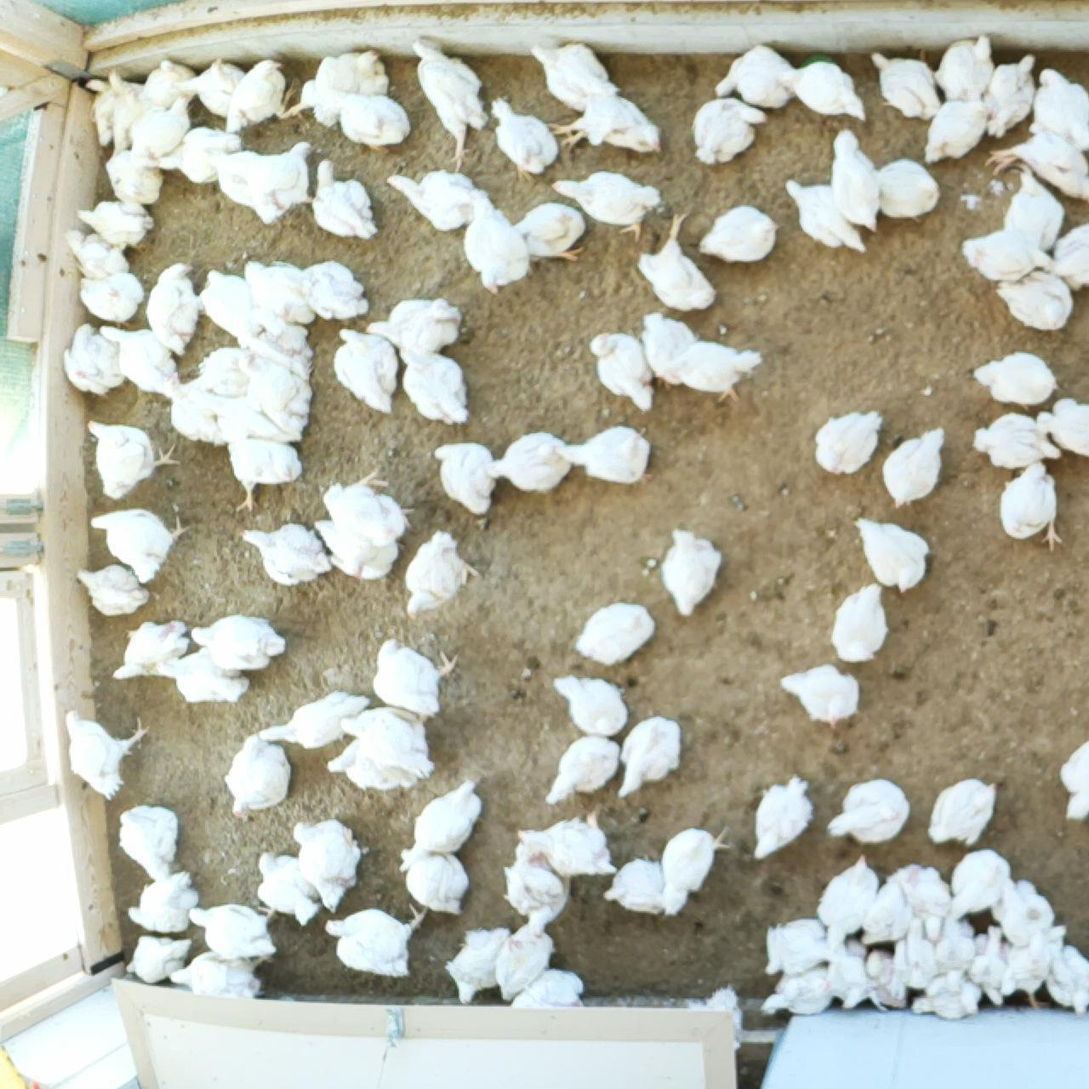chicken: (408, 31, 489, 166), (323, 904, 433, 981), (89, 503, 192, 585), (85, 416, 180, 503), (546, 167, 660, 239), (62, 708, 149, 801), (635, 214, 715, 314), (549, 91, 666, 159), (322, 465, 419, 546), (283, 46, 389, 119), (398, 781, 483, 872), (338, 705, 441, 780), (458, 189, 531, 294), (514, 806, 617, 880), (291, 820, 371, 913), (308, 84, 414, 153), (373, 637, 460, 721), (658, 824, 734, 918), (653, 340, 762, 405), (254, 692, 374, 751), (984, 138, 1089, 204), (403, 531, 480, 620), (381, 170, 491, 231), (239, 350, 314, 439), (553, 423, 655, 488), (784, 175, 867, 254), (223, 729, 292, 824), (395, 343, 473, 426), (488, 94, 561, 182), (528, 39, 618, 110), (365, 296, 468, 358), (814, 854, 879, 952), (1000, 919, 1072, 1007), (996, 462, 1066, 552), (332, 326, 401, 416), (236, 523, 333, 587), (502, 856, 575, 941), (541, 734, 623, 809), (322, 733, 419, 796), (247, 140, 317, 227), (828, 124, 883, 234), (614, 717, 685, 802), (97, 324, 182, 395), (145, 262, 207, 359), (226, 436, 306, 511), (776, 60, 872, 122), (750, 775, 817, 863), (969, 349, 1061, 413), (1001, 160, 1065, 252), (712, 46, 804, 110), (855, 517, 932, 593), (223, 57, 296, 137), (660, 526, 723, 618), (191, 613, 286, 674), (187, 899, 278, 962), (828, 776, 908, 847), (970, 411, 1063, 472), (780, 661, 862, 730), (882, 426, 949, 510), (590, 329, 657, 413), (486, 429, 570, 496), (313, 518, 402, 581), (167, 951, 265, 1008), (924, 776, 1001, 848), (691, 96, 770, 166), (572, 601, 657, 666), (113, 803, 182, 883), (309, 157, 376, 239), (960, 228, 1055, 285), (511, 200, 589, 269), (154, 650, 251, 705), (828, 581, 893, 663), (978, 53, 1039, 140), (986, 870, 1054, 948), (997, 265, 1076, 332), (58, 322, 125, 401), (867, 49, 940, 121), (294, 258, 370, 327), (201, 394, 296, 449), (445, 926, 510, 1006), (151, 128, 242, 185), (810, 409, 885, 478), (867, 157, 942, 226), (430, 441, 498, 517), (160, 372, 227, 449), (697, 204, 781, 265), (398, 845, 468, 918), (243, 258, 316, 328), (496, 920, 555, 1005), (555, 670, 630, 736), (509, 965, 586, 1029), (1029, 69, 1089, 151), (761, 960, 842, 1020), (603, 856, 681, 918), (921, 100, 995, 165), (127, 871, 201, 935), (953, 845, 1014, 922), (936, 33, 997, 110), (204, 145, 277, 209), (116, 619, 192, 679), (854, 872, 913, 949), (638, 311, 696, 389), (968, 925, 1021, 1009), (73, 562, 151, 619), (258, 851, 318, 925), (75, 198, 157, 252), (684, 983, 743, 1058), (894, 863, 951, 940), (766, 917, 844, 973), (128, 93, 193, 160), (822, 943, 884, 1012), (200, 267, 257, 341), (64, 228, 133, 287), (892, 917, 941, 1000), (910, 969, 984, 1022), (102, 68, 148, 150), (74, 272, 147, 323), (83, 77, 138, 144), (251, 313, 314, 371), (1032, 396, 1089, 460), (181, 58, 247, 113), (103, 146, 164, 205), (198, 346, 265, 399), (1043, 939, 1089, 1016), (124, 934, 190, 986), (859, 948, 912, 1012), (138, 57, 195, 111), (1049, 219, 1089, 290), (1057, 737, 1089, 820)
